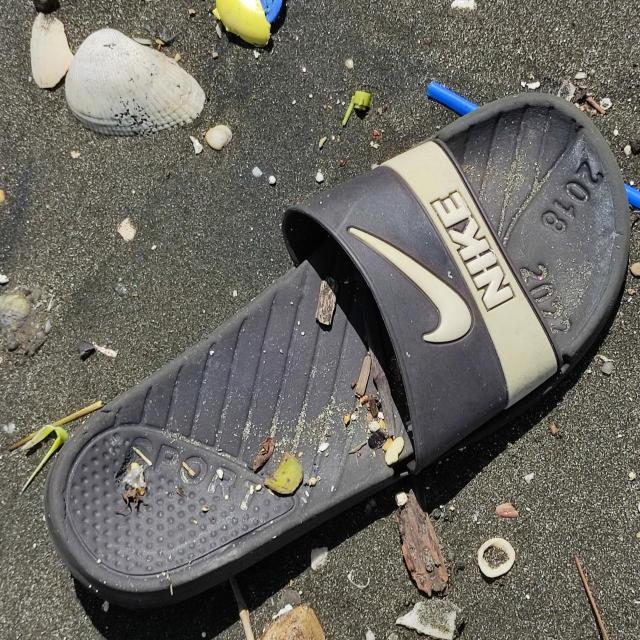rubber_waste: (42, 90, 634, 615)
